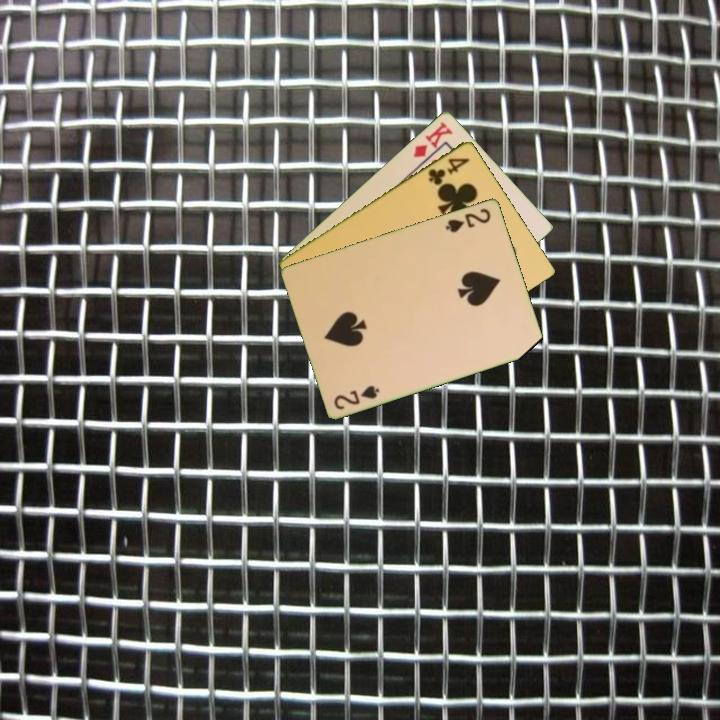2s: (442, 204, 494, 235), (330, 381, 382, 412)
4c: (424, 154, 473, 188)
Kd: (409, 118, 456, 160)
